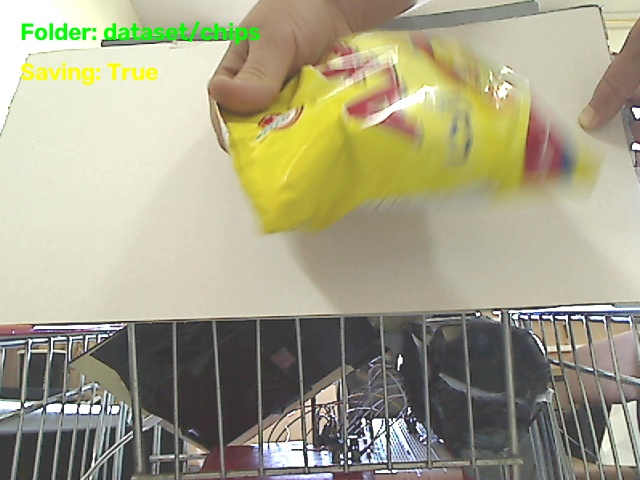chips: (221, 32, 598, 232)
